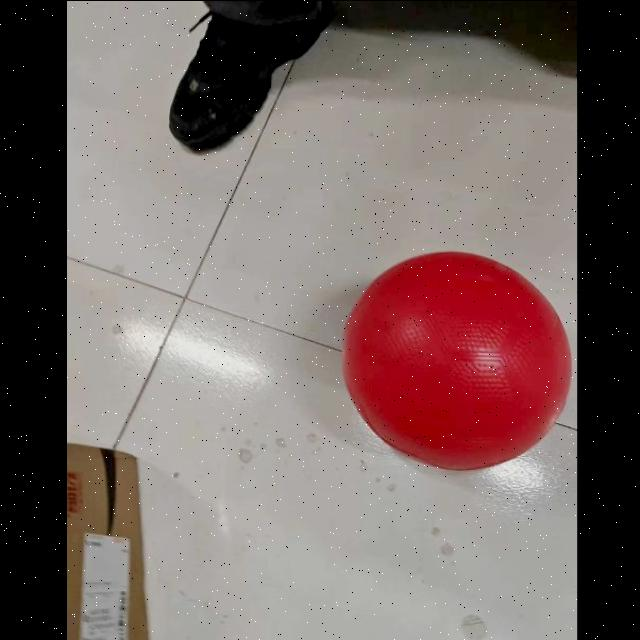R: (338, 247, 576, 473)
